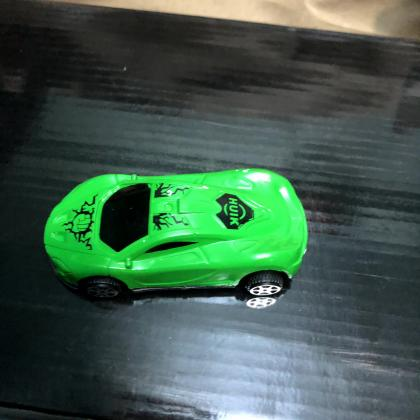Car: (43, 168, 309, 299)
